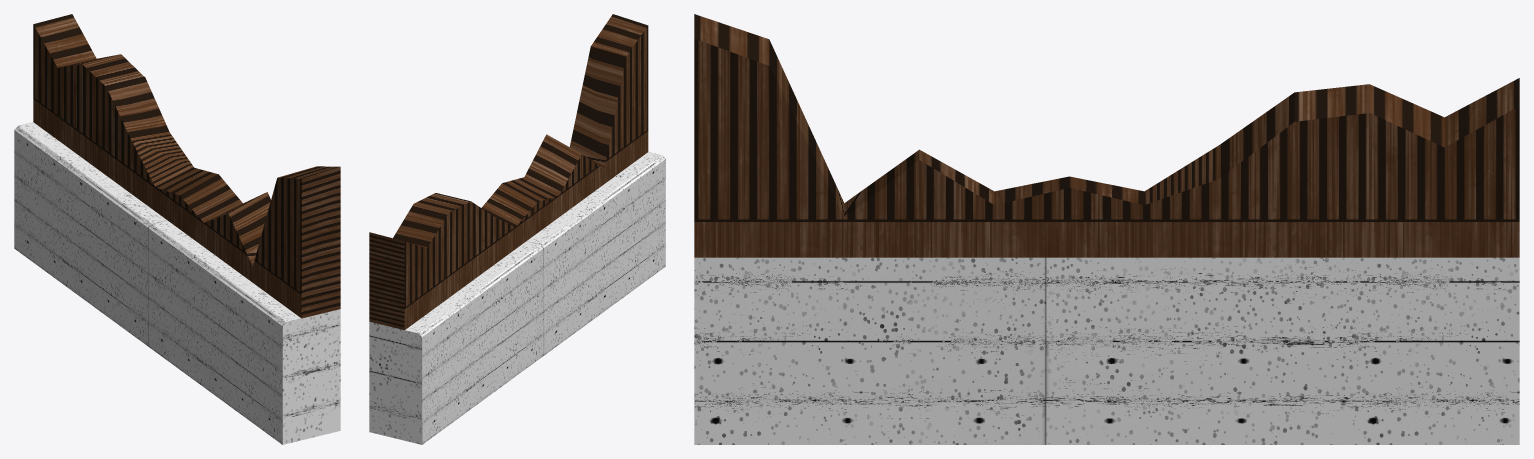
The model's file is Wall_Cardinal_Front_02_Damaged.fbx.
3 renders of one model, left to right at view 1: azimuth 30°, elevation 25°; view 2: azimuth 150°, elevation 25°; view 3: azimuth 270°, elevation 25°, orthographic. The views are drawn at different scales.
Parts seen in each view (by area): view 1: Wall__Cardinal_Front_02_Damaged; view 2: Wall__Cardinal_Front_02_Damaged; view 3: Wall__Cardinal_Front_02_Damaged.
Boxes of the visible parts, x1=… form: Wall__Cardinal_Front_02_Damaged: x1=14, y1=14, x2=340, y2=444; Wall__Cardinal_Front_02_Damaged: x1=369, y1=14, x2=665, y2=444; Wall__Cardinal_Front_02_Damaged: x1=694, y1=14, x2=1519, y2=444.
Bounding box in the file's own units: 0.25 × 1.09 × 2.
